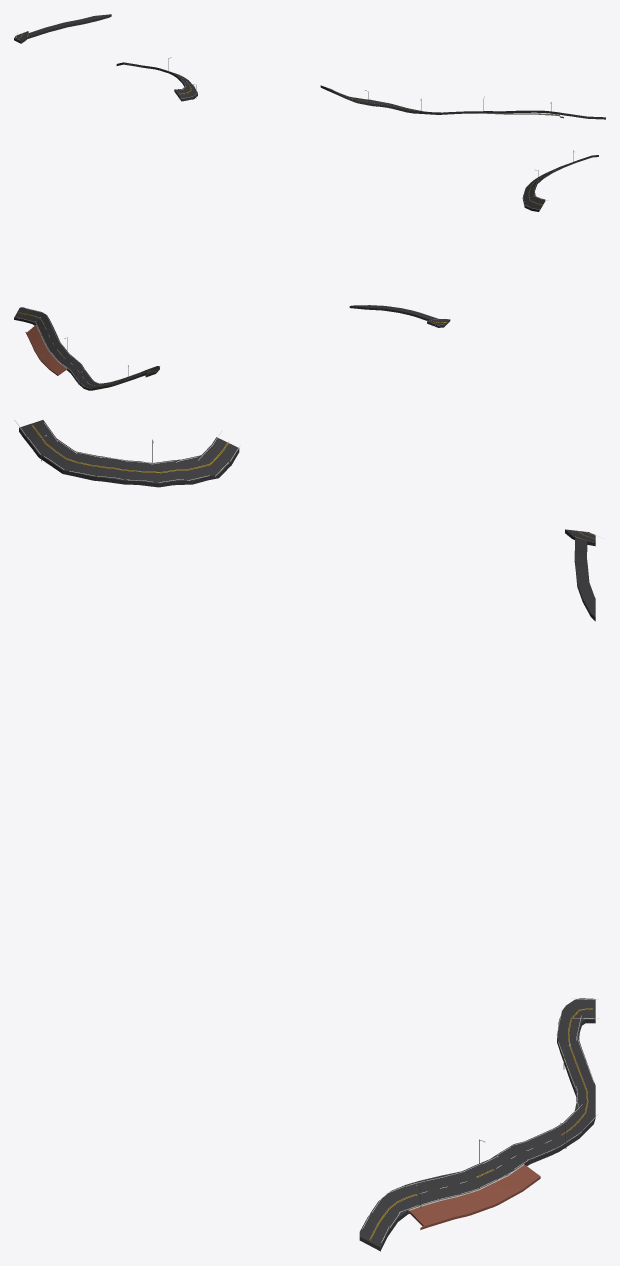
The picture shows the model from 3 angles, top to bottom: view 1: azimuth 30°, elevation 25°; view 2: azimuth 150°, elevation 25°; view 3: azimuth 270°, elevation 25°; orthographic projection. The views are drawn at different scales.
Bounding box in the file's own units: 297 × 127 × 168.
